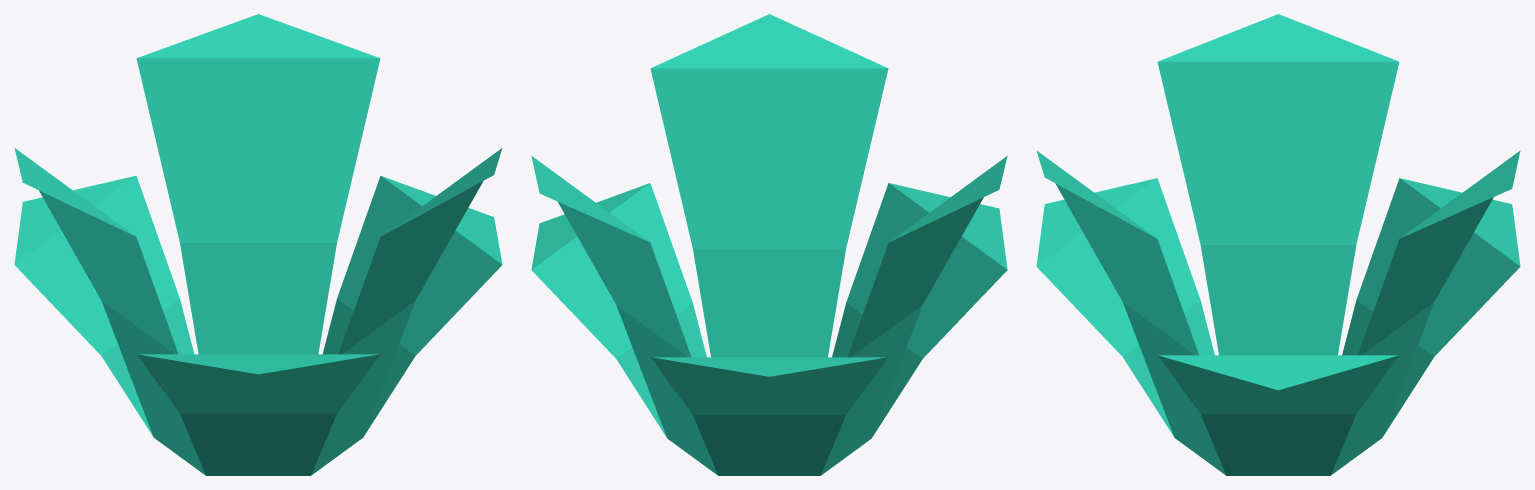
The model's file is plant_bushLarge.dae.
3 views of the same model, side by side, from view 1: azimuth 30°, elevation 25°; view 2: azimuth 150°, elevation 25°; view 3: azimuth 270°, elevation 25° (orthographic). The views are drawn at different scales.
Visible parts, largest first — view 1: plant_bushLarge; view 2: plant_bushLarge; view 3: plant_bushLarge.
Part boxes in pixels (<box>): plant_bushLarge: <box>14,14,502,475</box>; plant_bushLarge: <box>531,14,1007,475</box>; plant_bushLarge: <box>1036,14,1520,475</box>.
Bounding box in the file's own units: 0.3743 × 0.2429 × 0.3357.
